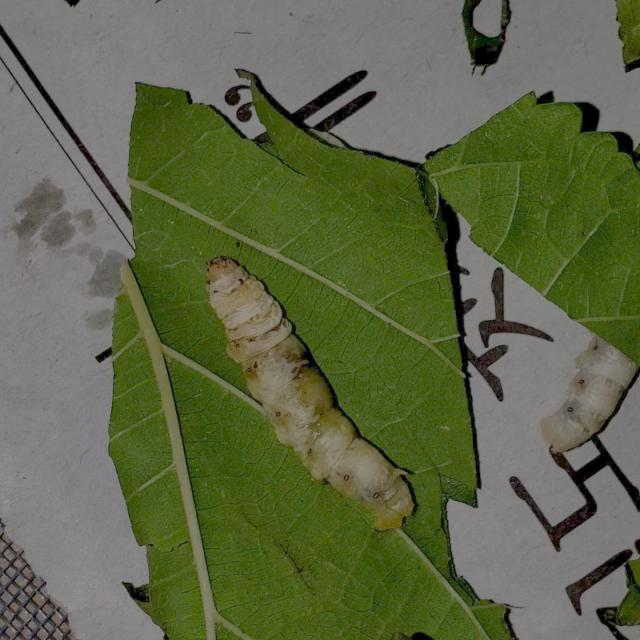Grasserie: (176, 239, 446, 543)
